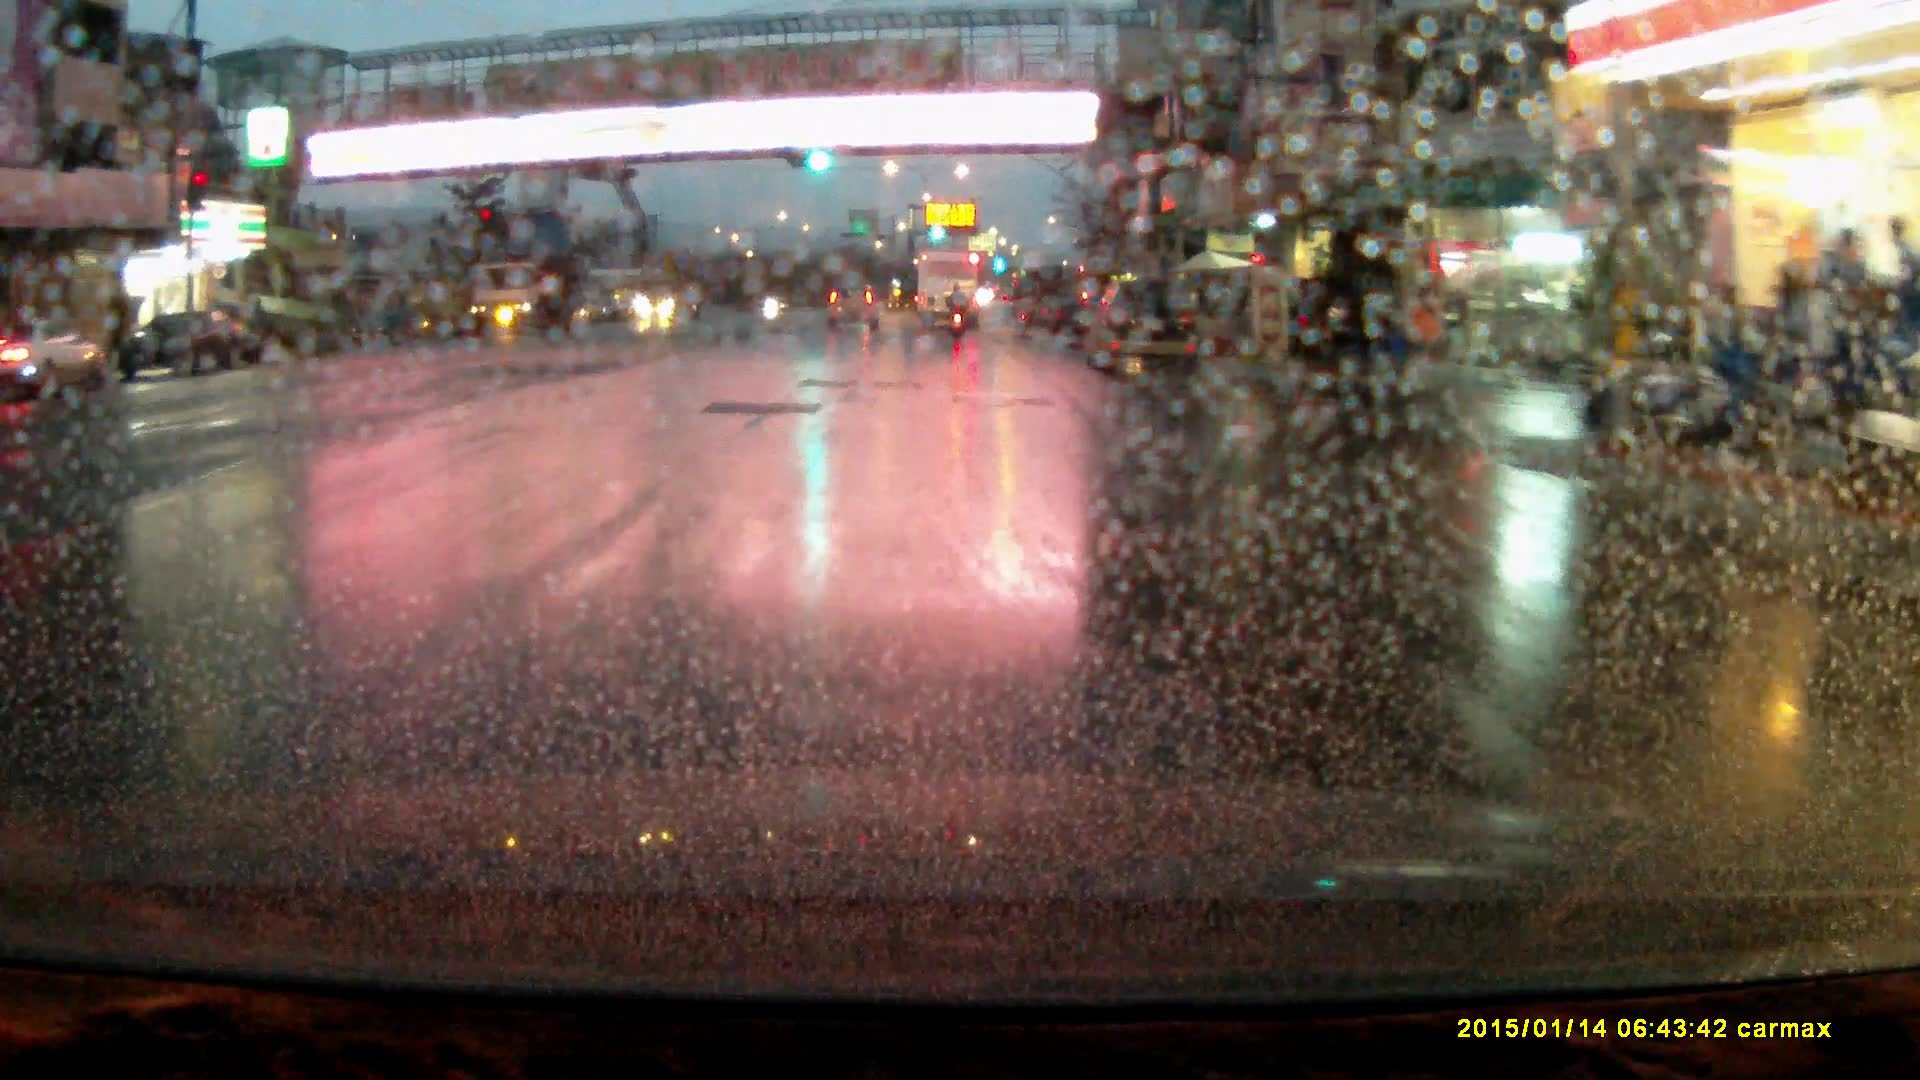pedestrian: (1397, 279, 1450, 390)
rider: (946, 282, 969, 340)
vehicle: (1084, 282, 1198, 384), (110, 315, 253, 387), (463, 263, 577, 341), (1, 324, 118, 401), (1293, 283, 1392, 365), (918, 255, 981, 334), (636, 277, 702, 328), (827, 289, 882, 337)
